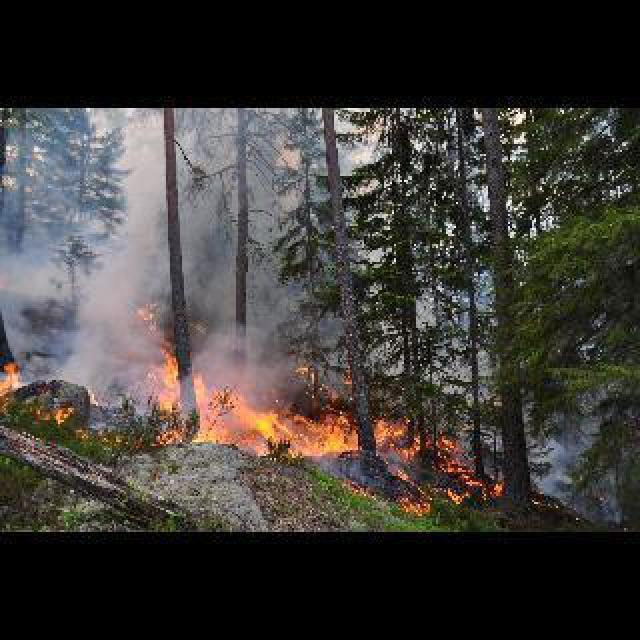zfire: (132, 308, 506, 510)
